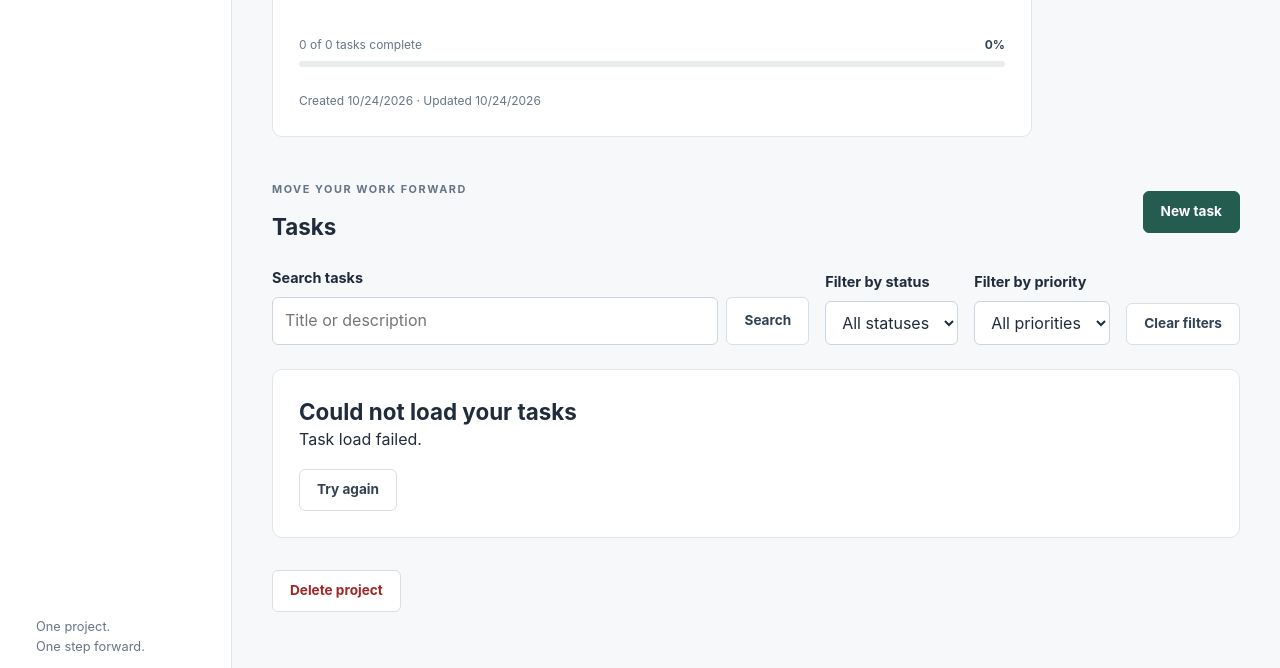
Scenario: shows task loading errors and retains the form after a failed save
The image size is (1280, 668).
(page scrolled)
Check: the message shows "Task load failed.", box [299,429,422,449]
Click the button "Try again" at [348, 490], box [299,469,397,511]
(page scrolled)
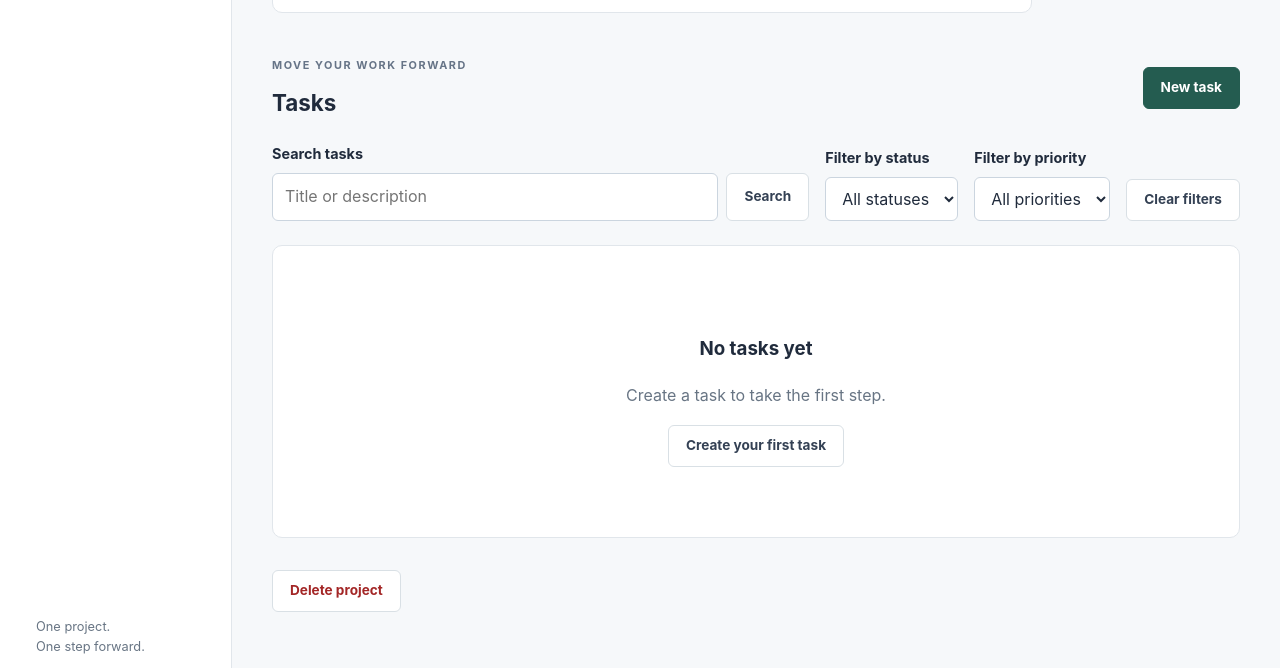
Check: the heading "No tasks yet" is shown, box [699,337,812,360]
Click the button "New task" at [1191, 88], box [1142,67,1240,109]
(page scrolled)
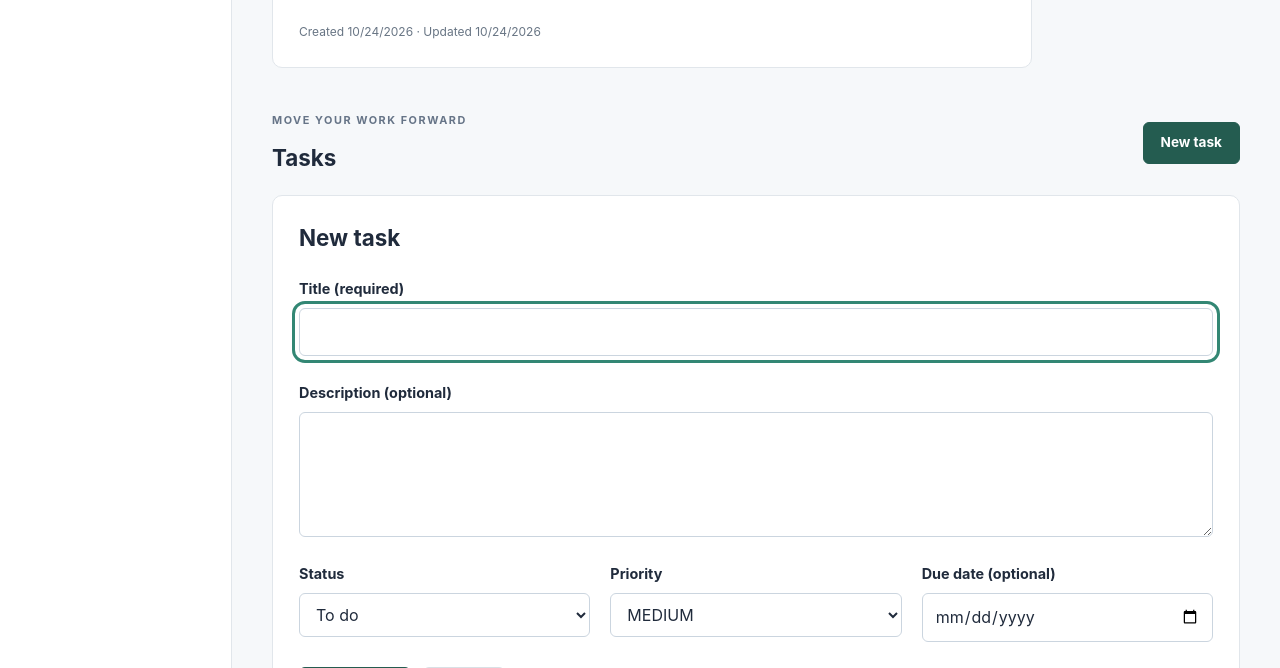
Type "Keep this draft" into the field labelled "Title (required)" at [756, 332], box [299,308,1213,356]
(page scrolled)
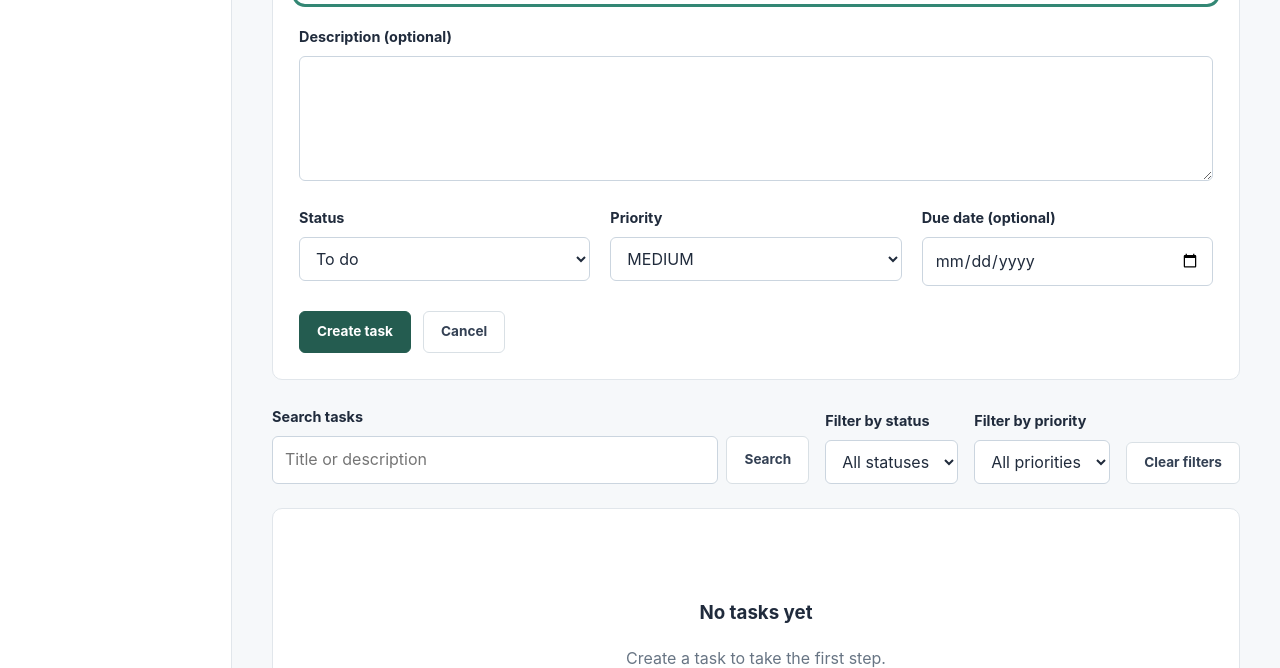
Click the button "Create task" at [355, 332], box [299,311,411,353]
(page scrolled)
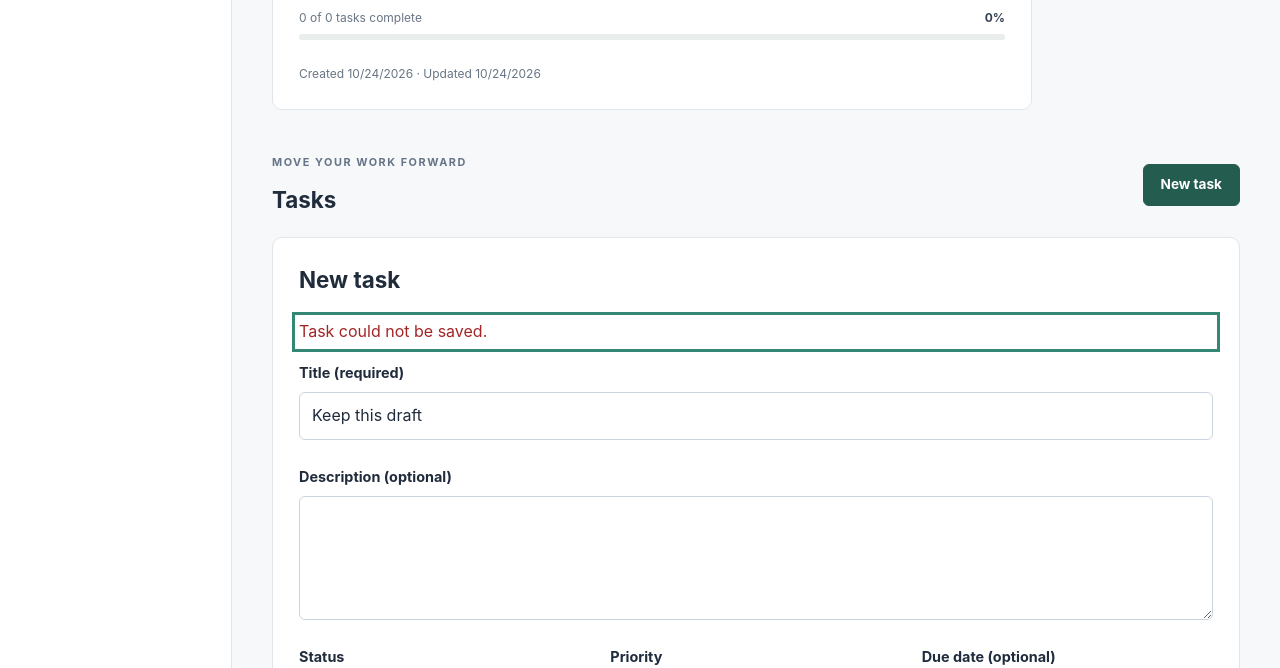
Check: the text "Task could not be saved." is shown, box [299,321,487,341]
